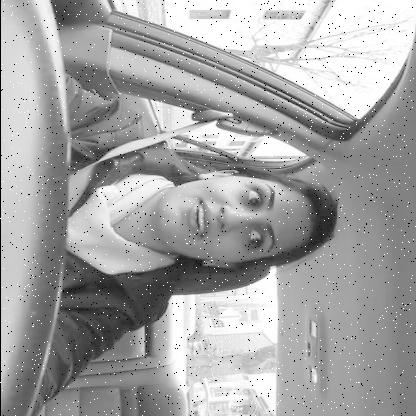seatbelt: (66, 109, 344, 279)
